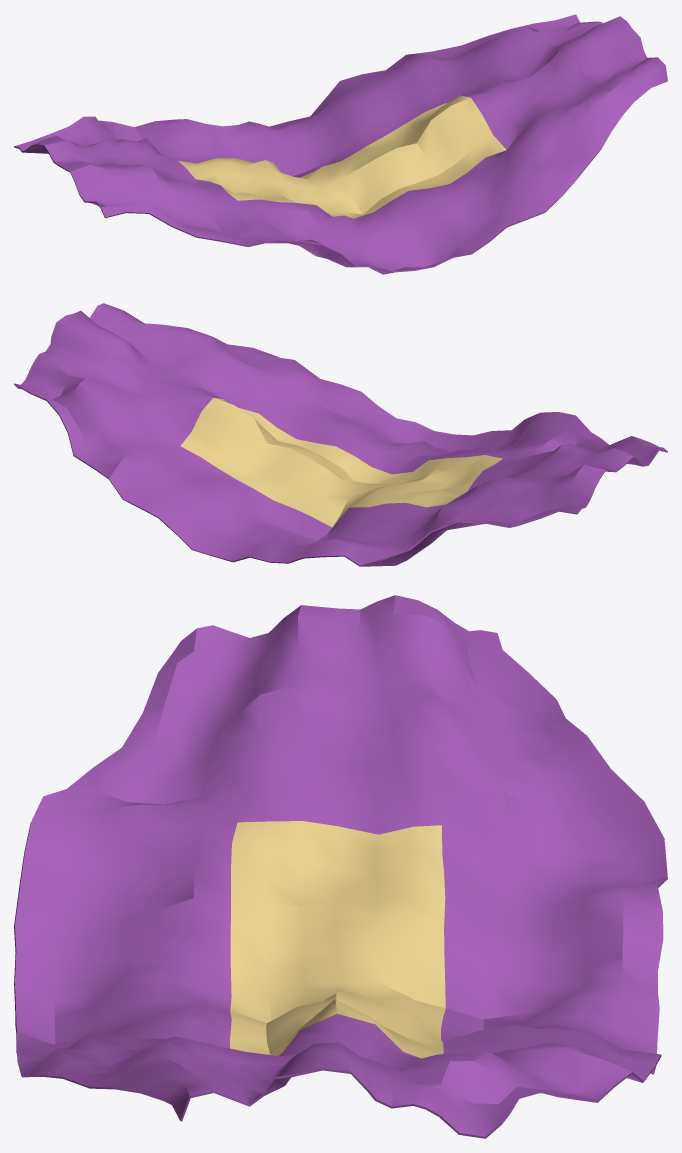
The model's file is kitchen_chocolate_wrapper.fbx.
The picture shows the model from 3 angles, top to bottom: view 1: azimuth 30°, elevation 25°; view 2: azimuth 150°, elevation 25°; view 3: azimuth 270°, elevation 25°; orthographic projection. The views are drawn at different scales.
Visible parts, largest first — view 1: kitchen_chocolate_wrapper; view 2: kitchen_chocolate_wrapper; view 3: kitchen_chocolate_wrapper.
Boxes of the visible parts, x1,y1,x2,y2 form: kitchen_chocolate_wrapper: (14, 14, 667, 274); kitchen_chocolate_wrapper: (14, 303, 667, 566); kitchen_chocolate_wrapper: (14, 595, 667, 1138).
Size of the model in its own units: 0.1506 by 0.0313 by 0.0867.
